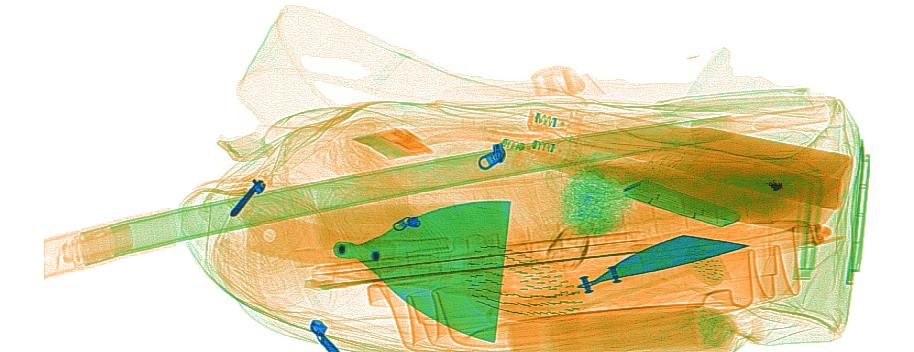plasticBottleWithaNozzle: (477, 130, 844, 232), (525, 106, 853, 209)
